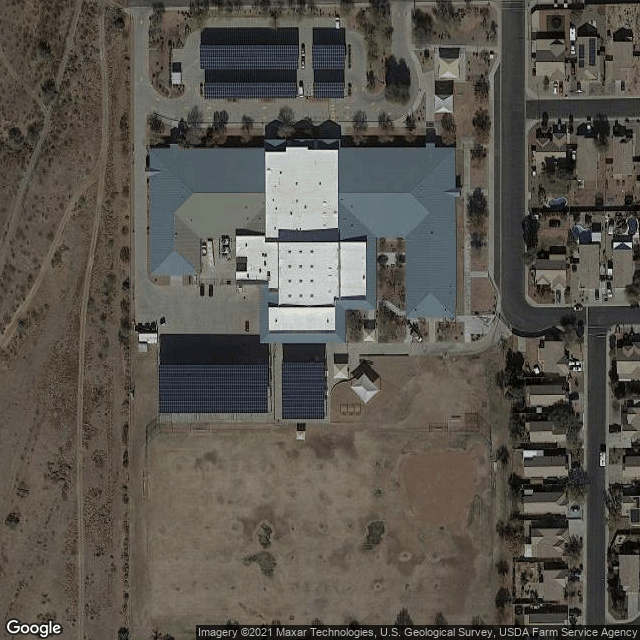carport-fixed: (158, 366, 266, 413), (281, 357, 326, 417), (199, 41, 296, 66), (204, 80, 296, 98), (310, 41, 347, 67), (311, 82, 345, 97)
